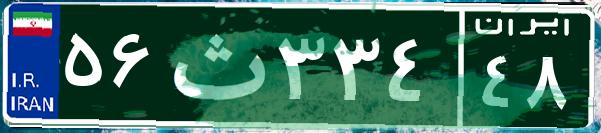3: (273, 28, 330, 110), (330, 28, 385, 110)
4: (385, 28, 445, 110), (475, 38, 525, 113)
5: (57, 26, 110, 107)
6: (110, 28, 158, 105)
8: (525, 38, 570, 115)
ث: (158, 15, 273, 115)
